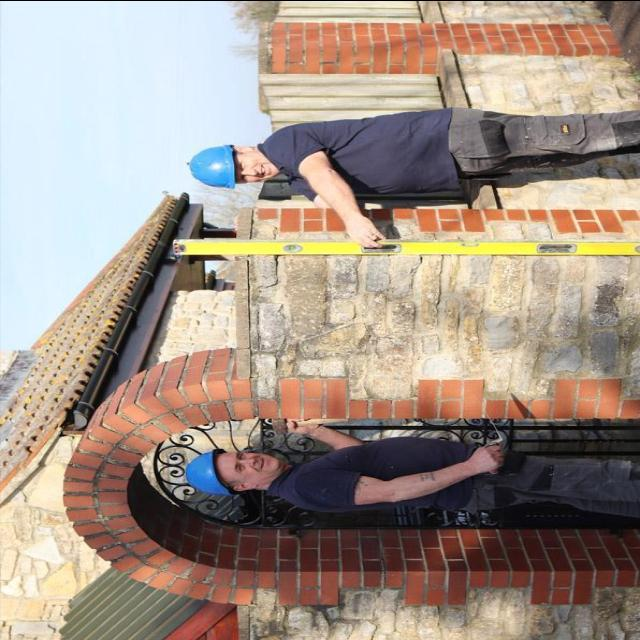helmet: (182, 444, 234, 499), (187, 141, 241, 193)
